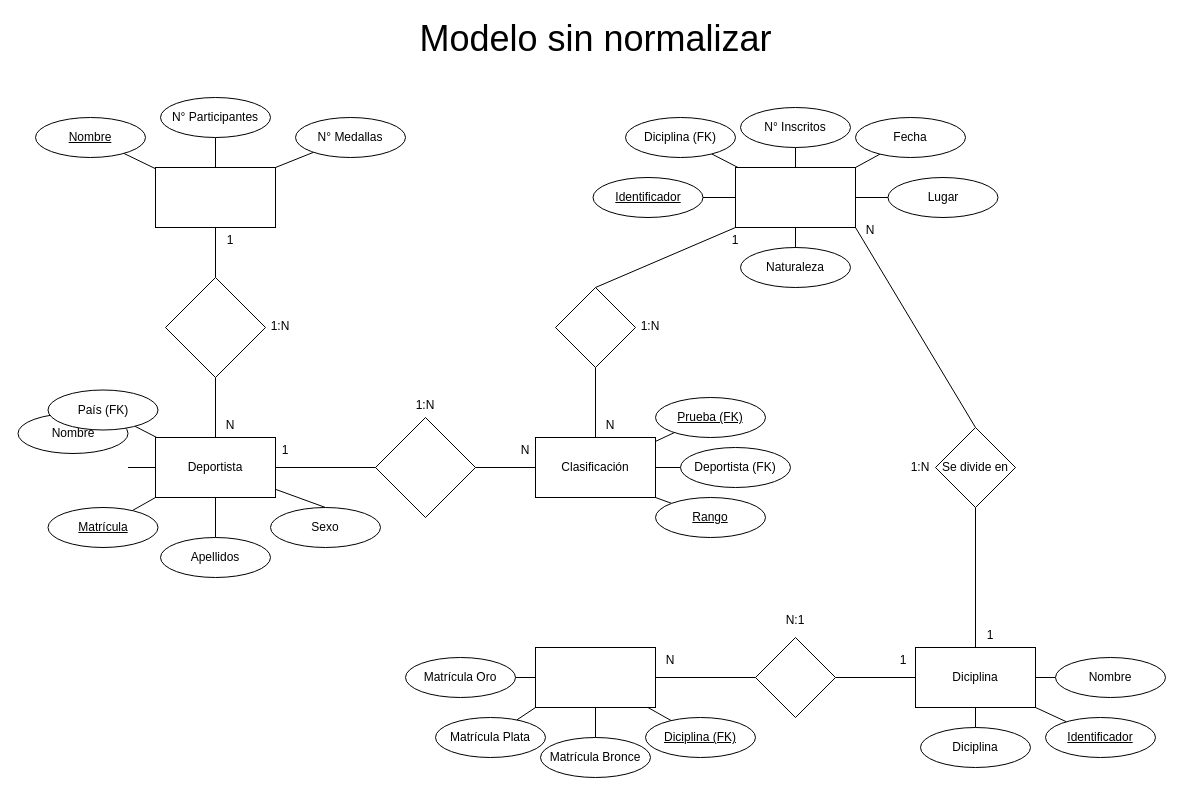
The diagram is 1183 pixels wide and 795 high, and some of its shapes have lost their labels. The centre of each missing label's shape, as x and y in pixels:
Concluye en: point 795,677
Llega con: point 425,467
País: point 215,197
Pertenece a: point 595,327
Prueba: point 795,197
Representa a: point 215,327
Resultado: point 595,677
